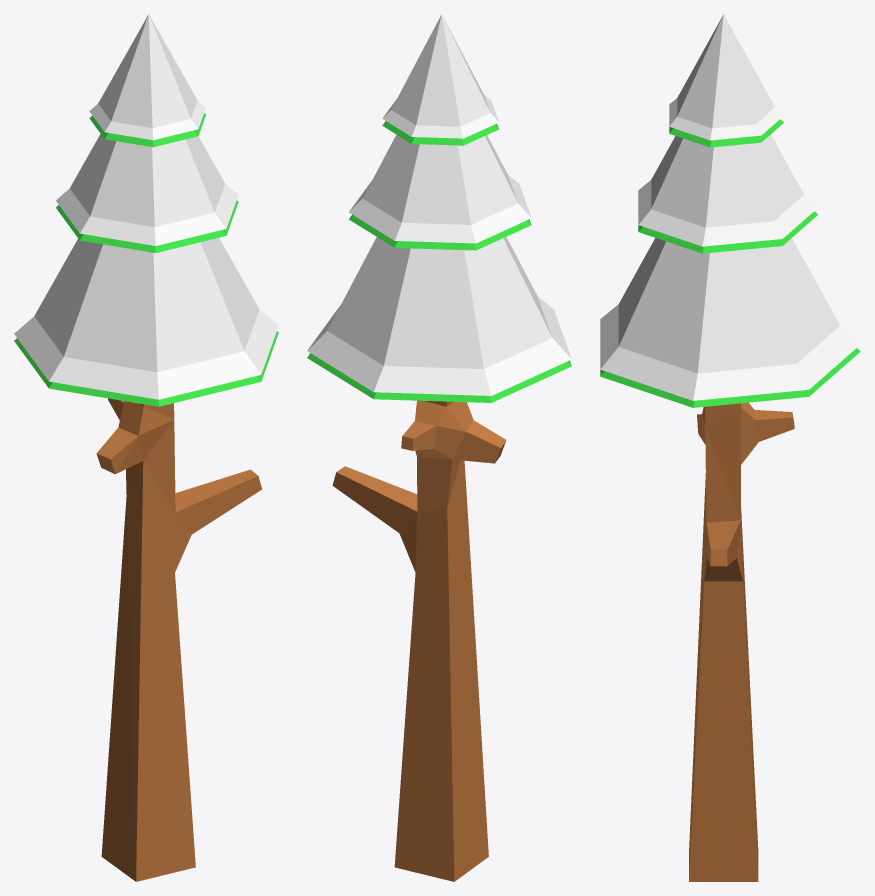
The model's file is talvi_manty2.fbx.
3 views of the same model, side by side, from view 1: azimuth 30°, elevation 25°; view 2: azimuth 150°, elevation 25°; view 3: azimuth 270°, elevation 25° (orthographic).
Visible parts, largest first — view 1: Cone.001, Cube, Cone.002; view 2: Cone.001, Cube, Cone.002; view 3: Cone.001, Cube, Cone.002.
Boxes of the visible parts, box(x1,y1,x2,y2) form: Cone.001: box(14, 14, 278, 399); Cube: box(96, 398, 261, 881); Cone.002: box(14, 113, 278, 406); Cone.001: box(307, 14, 571, 395); Cube: box(332, 400, 506, 881); Cone.002: box(307, 121, 571, 402); Cone.001: box(600, 14, 860, 400); Cube: box(689, 402, 794, 881); Cone.002: box(600, 119, 860, 407).
Bounding box in the file's own units: 441 × 1553 × 430.
